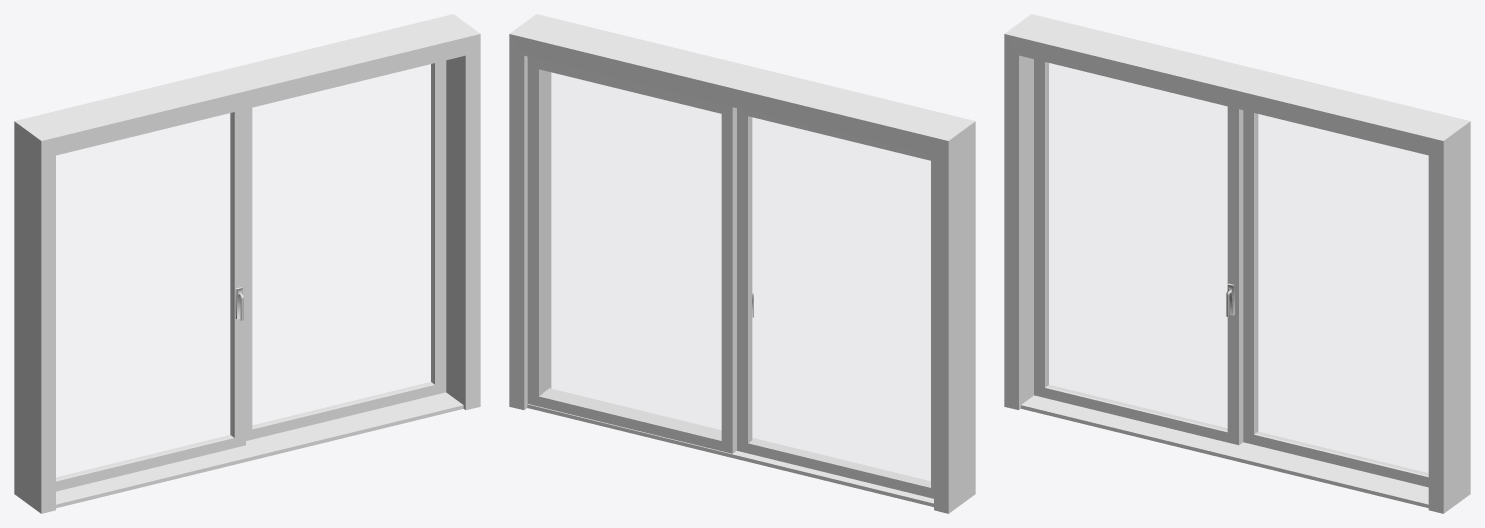
The model's file is GlassDoorDouble001.glb.
The picture shows the model from 3 angles, left to right: view 1: azimuth 30°, elevation 25°; view 2: azimuth 150°, elevation 25°; view 3: azimuth 330°, elevation 25°; orthographic projection.
Parts seen in each view (by area): view 1: GlassDoorDoubleFrame001[doorframe], GlassDoorDouble001Mesh[door]; view 2: GlassDoorDoubleFrame001[doorframe], GlassDoorDouble001Mesh[door]; view 3: GlassDoorDoubleFrame001[doorframe], GlassDoorDouble001Mesh[door].
Part boxes in pixels (box(x1,y1,x2,y2)): GlassDoorDoubleFrame001[doorframe]: box(14, 14, 480, 513); GlassDoorDouble001Mesh[door]: box(56, 60, 463, 508); GlassDoorDoubleFrame001[doorframe]: box(509, 14, 975, 513); GlassDoorDouble001Mesh[door]: box(527, 56, 933, 506); GlassDoorDoubleFrame001[doorframe]: box(1004, 14, 1470, 513); GlassDoorDouble001Mesh[door]: box(1021, 59, 1428, 507).
Bounding box in the file's own units: 2.65 × 2.15 × 0.284.
4 materials, 3 textured.
